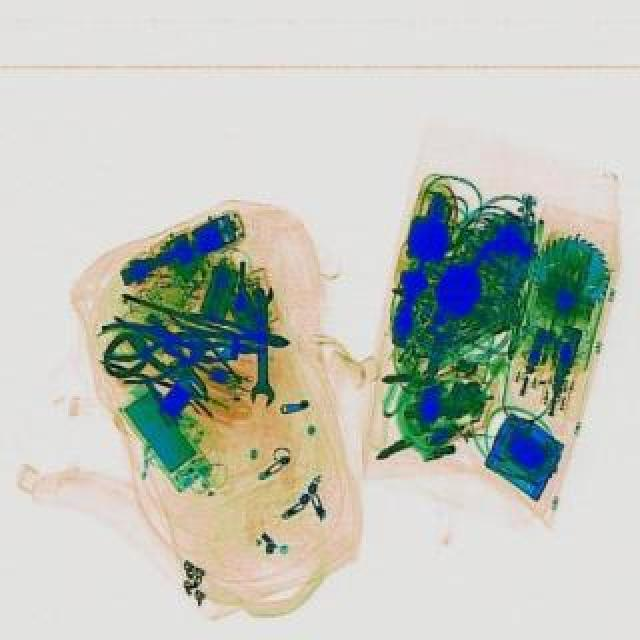scissors: (250, 286, 270, 404)
wrench: (98, 320, 226, 382), (178, 306, 290, 352), (100, 316, 188, 354)
